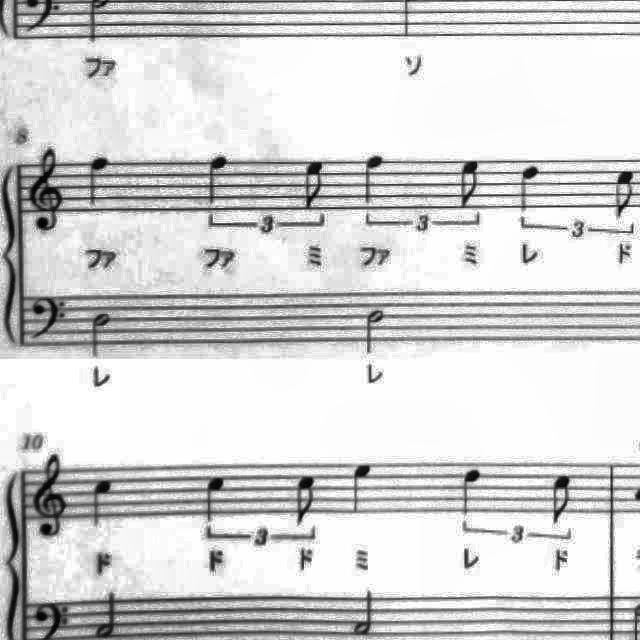Bass-clef: (26, 291, 74, 353)
Eighth-note: (287, 468, 325, 534), (545, 469, 583, 531), (454, 155, 490, 213), (294, 156, 330, 214), (608, 163, 640, 224)
Half-note: (346, 582, 384, 638), (89, 587, 125, 640), (84, 308, 118, 364), (358, 304, 392, 360)
Quarter-note: (342, 456, 382, 520), (86, 472, 122, 532), (80, 152, 116, 212), (454, 462, 490, 522), (198, 469, 234, 528), (512, 157, 548, 215), (200, 150, 234, 210), (358, 149, 390, 209)
Treble-clef: (26, 141, 74, 237), (25, 449, 71, 543)
